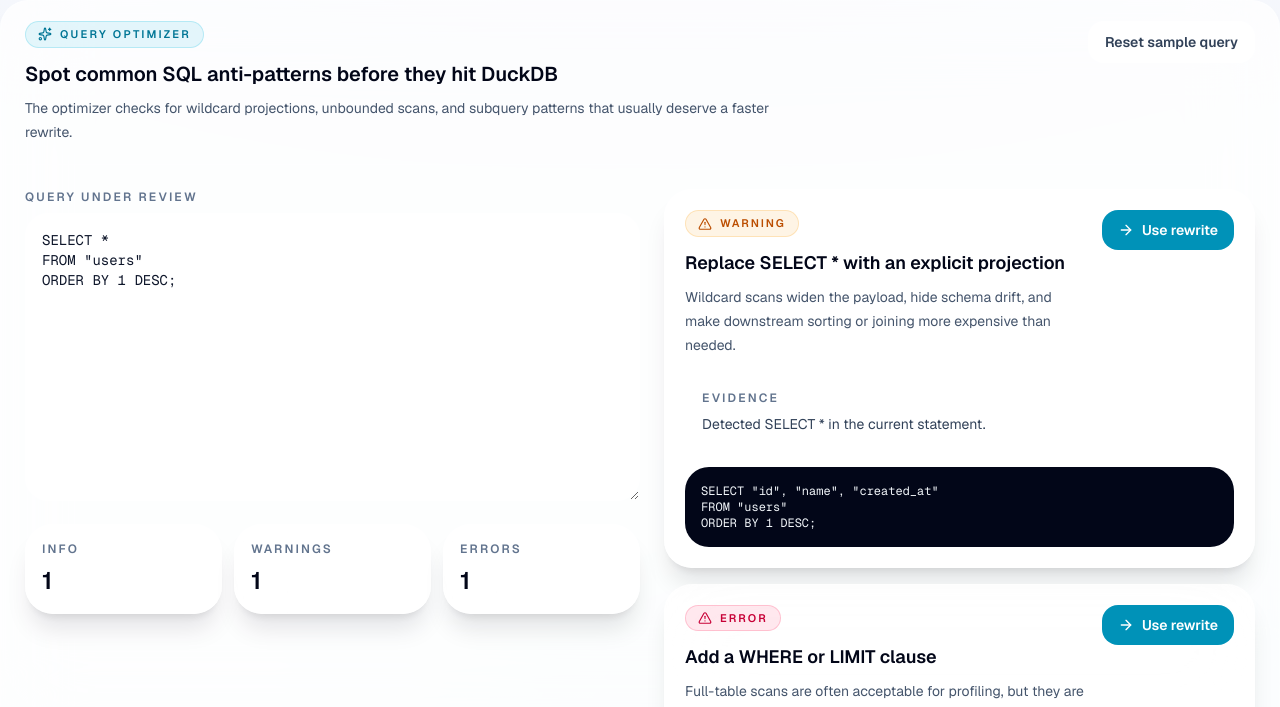
it: QueryOptimizer › applies a rewrite when clicking the Use rewrite button
Expected: the heading "Replace SELECT * with an explicit projection" is shown, [685,249,1090,277]
Step 1. Click the 1st button "Use rewrite" → (1168, 230), box [1102,210,1234,250]
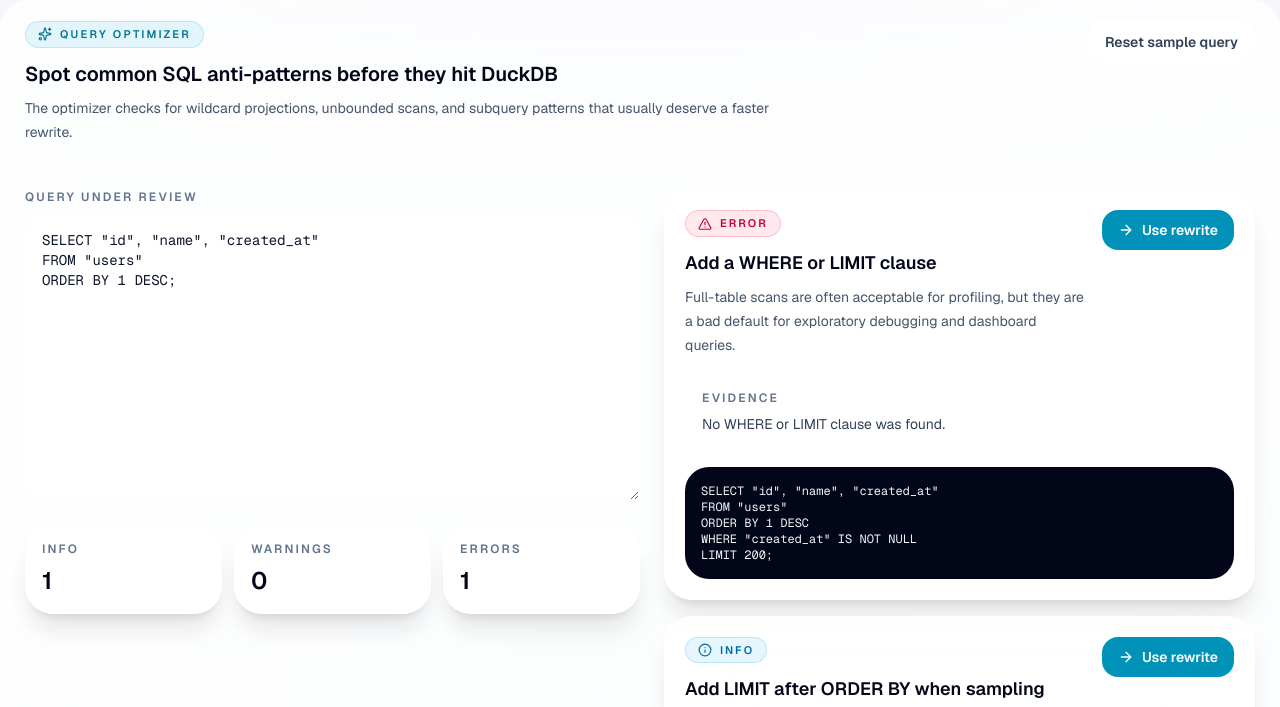
Expected: the heading "Replace SELECT * with an explicit projection" is gone
